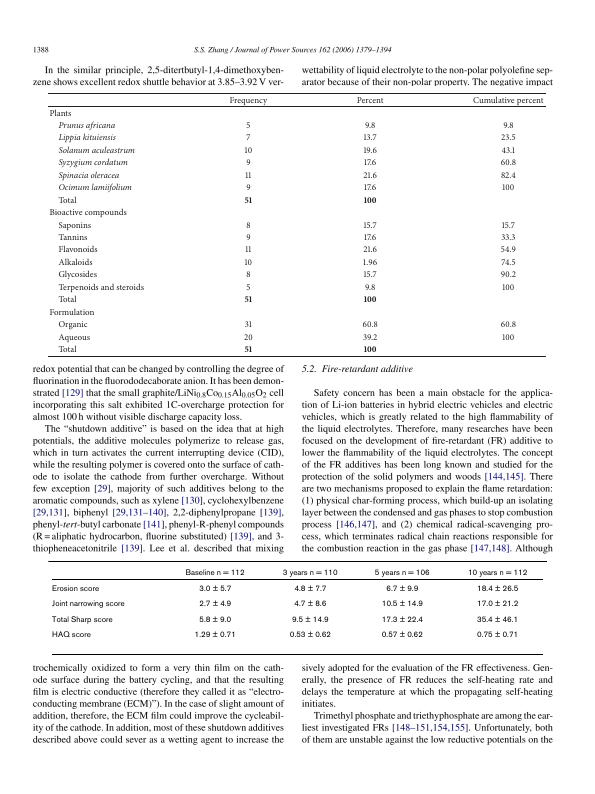borderless: (46, 91, 546, 356), (47, 559, 543, 654)
cell: (57, 282, 145, 293), (48, 207, 128, 218), (57, 145, 136, 156), (57, 182, 133, 193), (472, 95, 545, 106), (50, 600, 125, 610), (57, 158, 129, 168), (57, 170, 120, 181), (57, 120, 116, 131), (50, 615, 113, 625), (466, 568, 528, 578), (184, 568, 245, 578), (57, 133, 117, 143), (281, 568, 338, 578), (373, 568, 430, 578), (48, 307, 95, 318), (50, 584, 99, 594), (475, 584, 519, 594), (475, 600, 519, 610), (475, 615, 519, 625), (475, 631, 519, 641), (380, 600, 423, 610), (380, 615, 423, 625), (193, 631, 236, 641), (288, 631, 331, 641), (380, 631, 423, 641), (229, 95, 268, 106), (57, 245, 99, 255), (50, 631, 91, 641), (57, 270, 98, 280), (57, 257, 94, 268), (290, 615, 329, 625), (57, 332, 91, 343), (57, 319, 89, 330), (57, 220, 92, 230), (57, 232, 88, 243), (198, 584, 232, 594), (293, 584, 327, 594), (385, 584, 419, 594), (198, 600, 232, 610), (293, 600, 327, 610), (198, 615, 232, 625), (356, 95, 385, 106), (48, 108, 72, 118), (57, 195, 78, 206), (57, 344, 78, 355), (57, 295, 78, 305), (500, 170, 517, 181), (500, 257, 517, 268), (362, 319, 379, 330), (500, 319, 517, 330), (362, 145, 378, 156), (362, 170, 378, 181), (500, 232, 516, 243), (362, 257, 378, 268), (362, 332, 378, 343), (500, 133, 517, 143), (500, 158, 517, 168), (500, 245, 517, 255), (500, 270, 517, 280), (501, 145, 516, 156), (362, 245, 378, 255), (363, 182, 377, 193), (501, 182, 515, 193), (363, 232, 377, 243), (501, 282, 515, 293), (501, 332, 515, 343), (363, 133, 378, 143), (363, 220, 378, 230), (501, 220, 516, 230), (363, 270, 378, 280), (502, 120, 515, 131), (363, 158, 377, 168), (363, 344, 378, 353), (364, 120, 376, 131), (364, 282, 376, 293), (243, 332, 254, 343), (363, 195, 378, 203), (363, 295, 378, 303), (244, 145, 253, 156), (244, 257, 253, 268), (244, 319, 253, 330), (244, 170, 252, 181), (244, 344, 253, 353), (244, 245, 252, 255), (245, 182, 252, 193), (245, 232, 252, 243), (244, 195, 253, 203), (244, 295, 253, 303), (245, 158, 252, 168), (245, 220, 252, 230), (245, 270, 252, 280), (245, 120, 251, 131), (245, 282, 251, 293), (245, 133, 251, 143)
